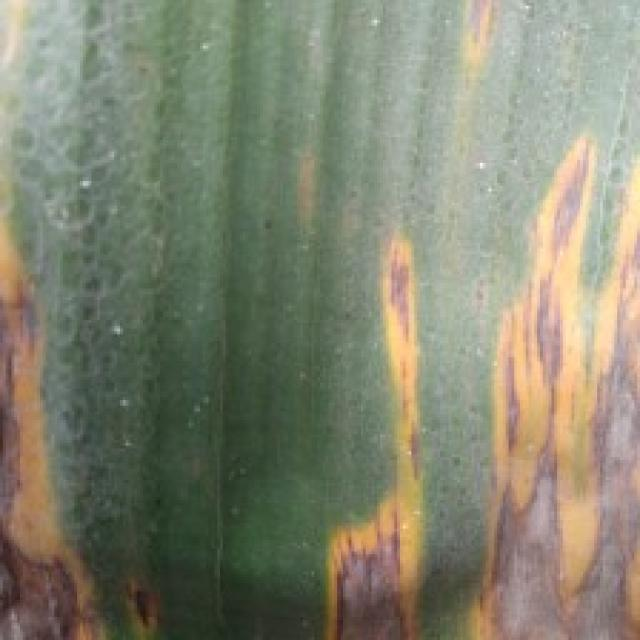Early_leaf_spot: (476, 121, 640, 640), (0, 197, 166, 640), (305, 194, 456, 640), (431, 0, 500, 77), (0, 0, 51, 80)
